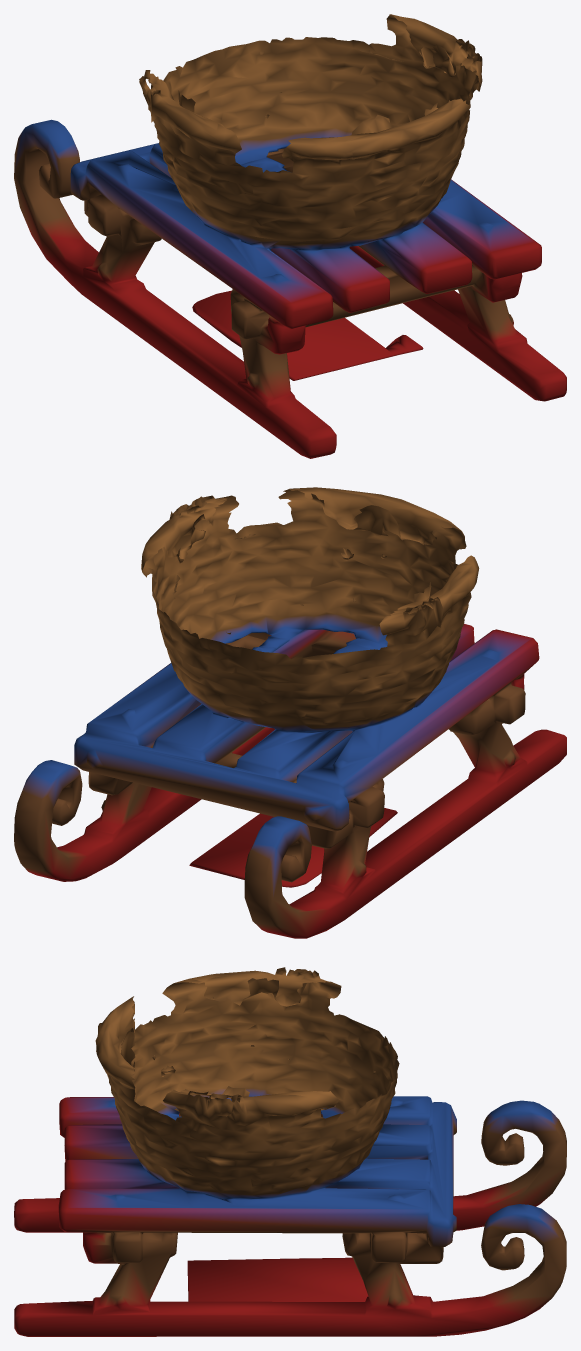
Rendered from sled.glb.
3 renders of one model, top to bottom at view 1: azimuth 30°, elevation 25°; view 2: azimuth 150°, elevation 25°; view 3: azimuth 270°, elevation 25°, orthographic. The views are drawn at different scales.
Parts seen in each view (by area): view 1: geometry_0; view 2: geometry_0; view 3: geometry_0.
Boxes of the visible parts, x1=… form: geometry_0: x1=14, y1=14, x2=566, y2=458; geometry_0: x1=14, y1=487, x2=566, y2=938; geometry_0: x1=14, y1=967, x2=566, y2=1336.
Bounding box in the file's own units: 1.08 × 0.963 × 1.9.
